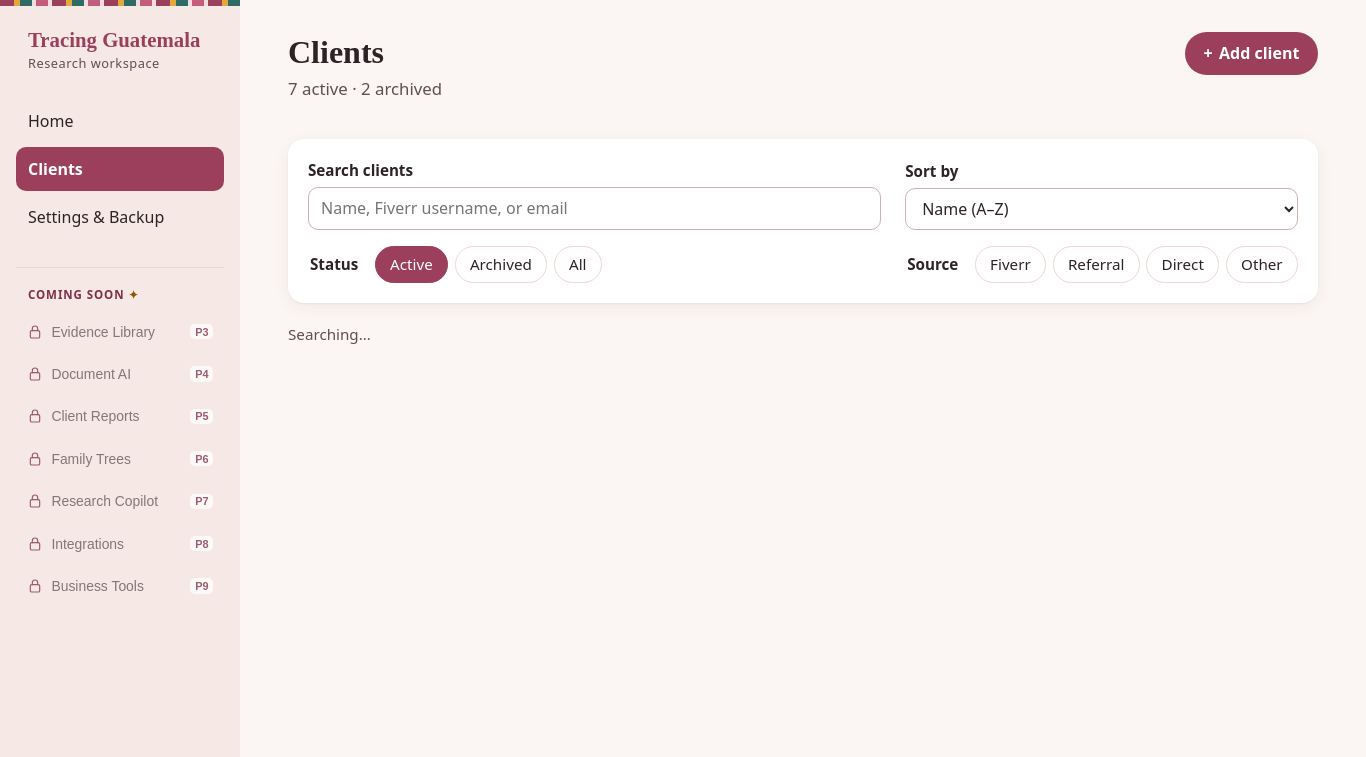
Test: add and edit client › shows rule errors returned by the main process
Click the link "+ Add client" at coordinates (1251, 53), box [1185, 32, 1318, 75]
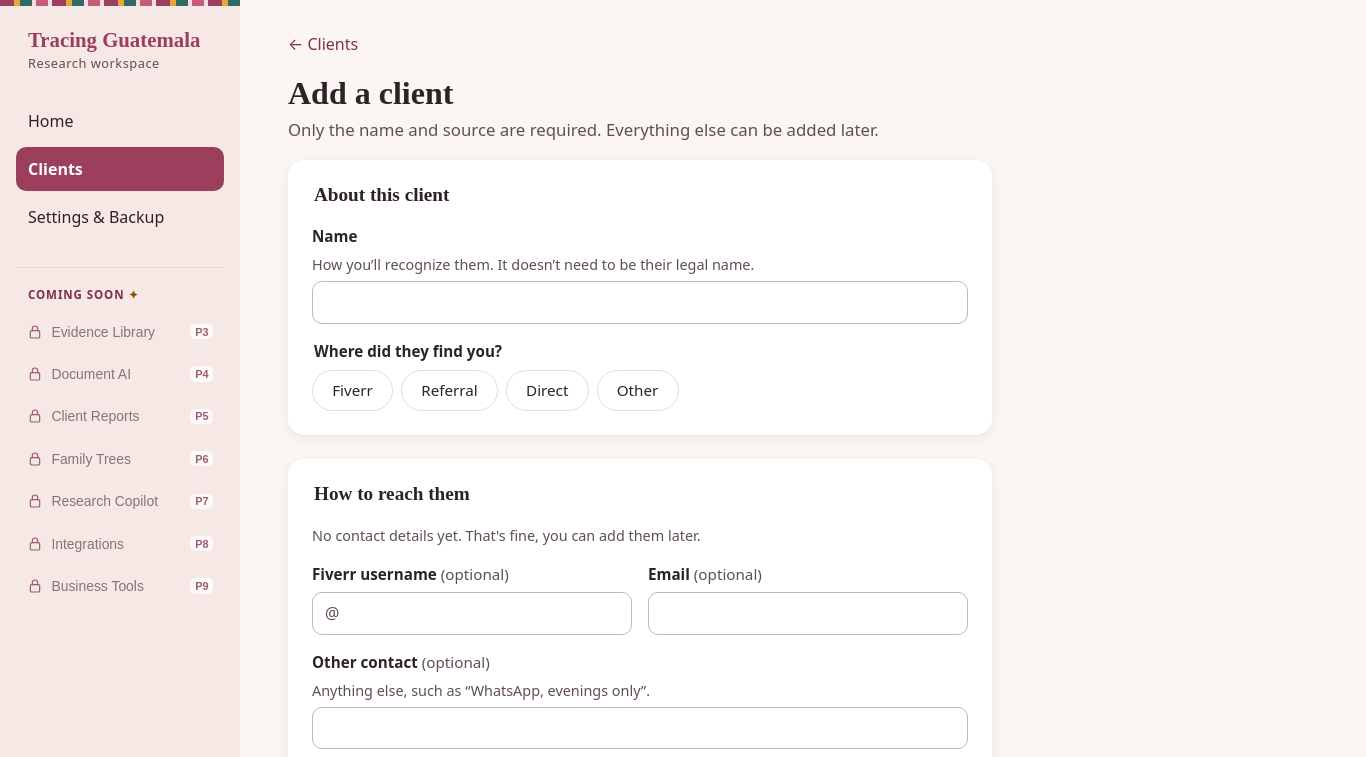
Type "Nueva Clienta" into the field labelled "Name" at coordinates (640, 302), box [312, 281, 968, 324]
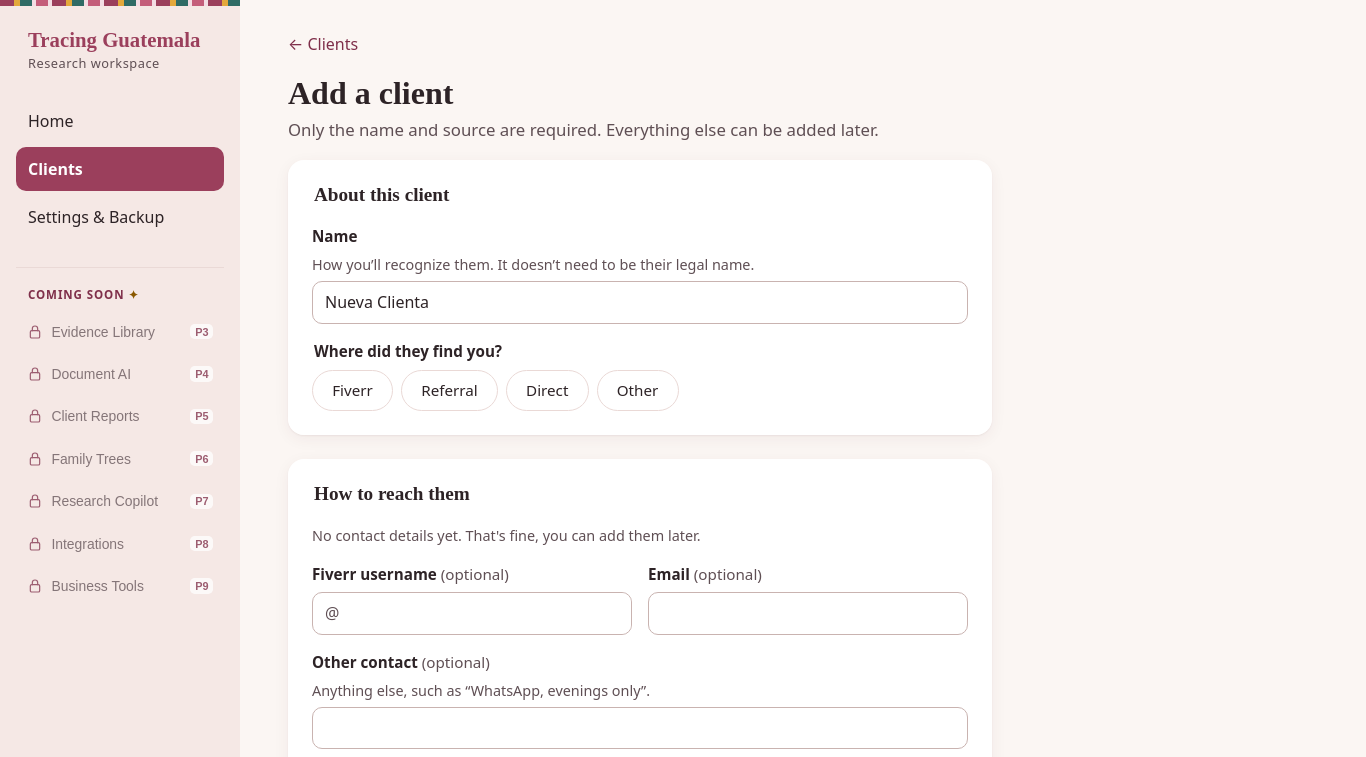
Click the radio button labelled "Direct" at coordinates (547, 390), box [506, 370, 589, 411]
(page scrolled)
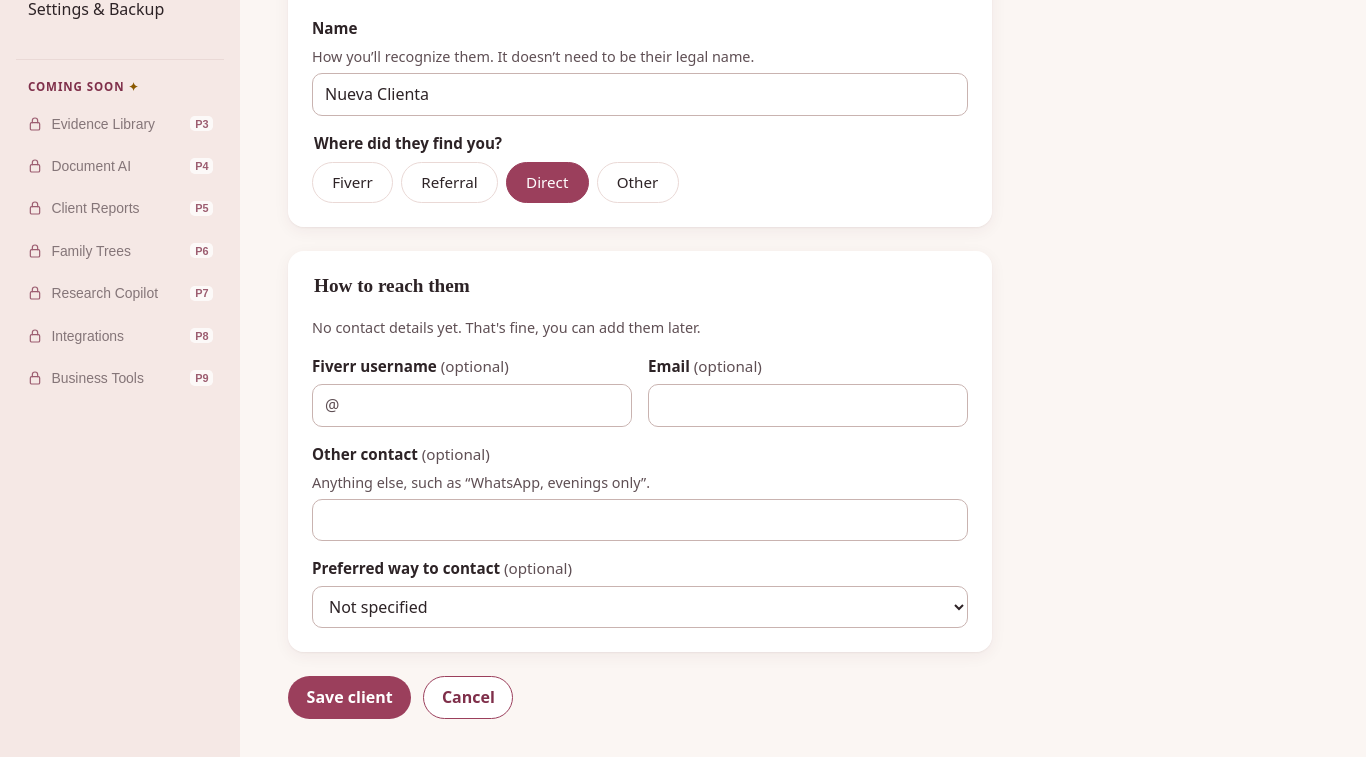
Click the button "Save client" at coordinates (350, 697), box [288, 676, 411, 719]
(page scrolled)
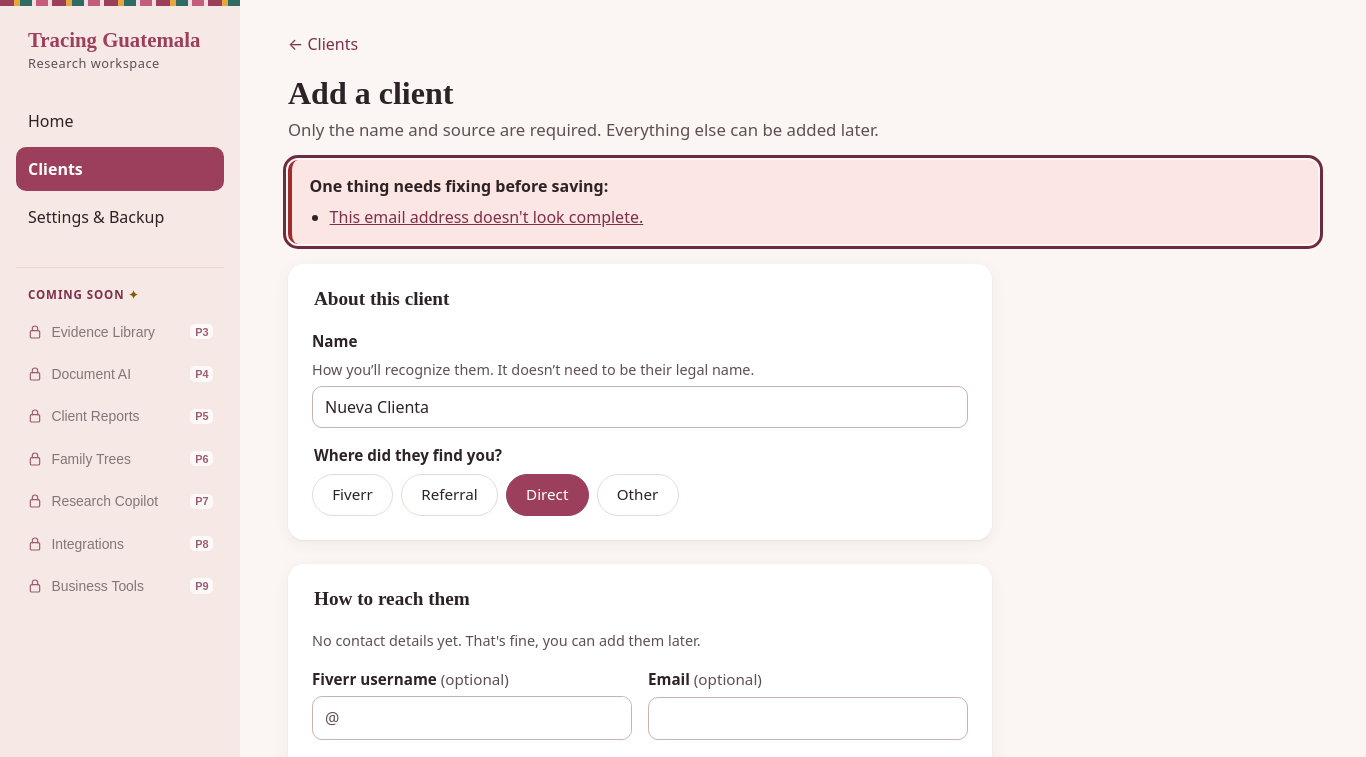
Check: the link "This email address doesn't look complete." is shown, box [330, 206, 643, 228]
